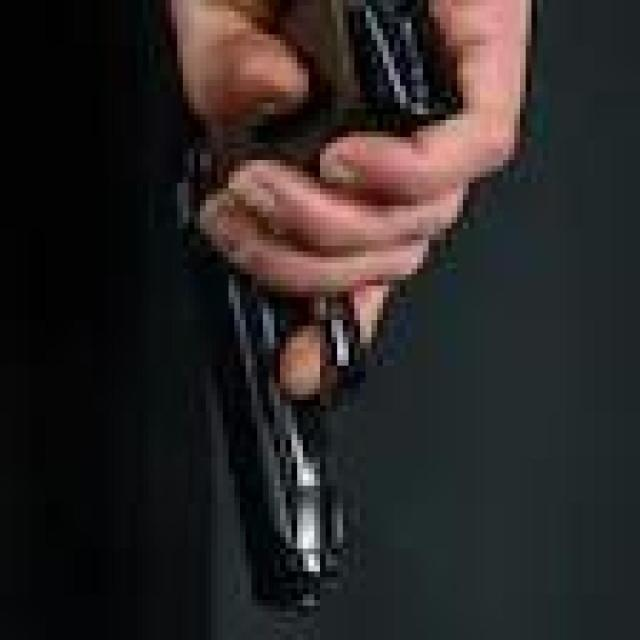pistol: (164, 0, 490, 636)
